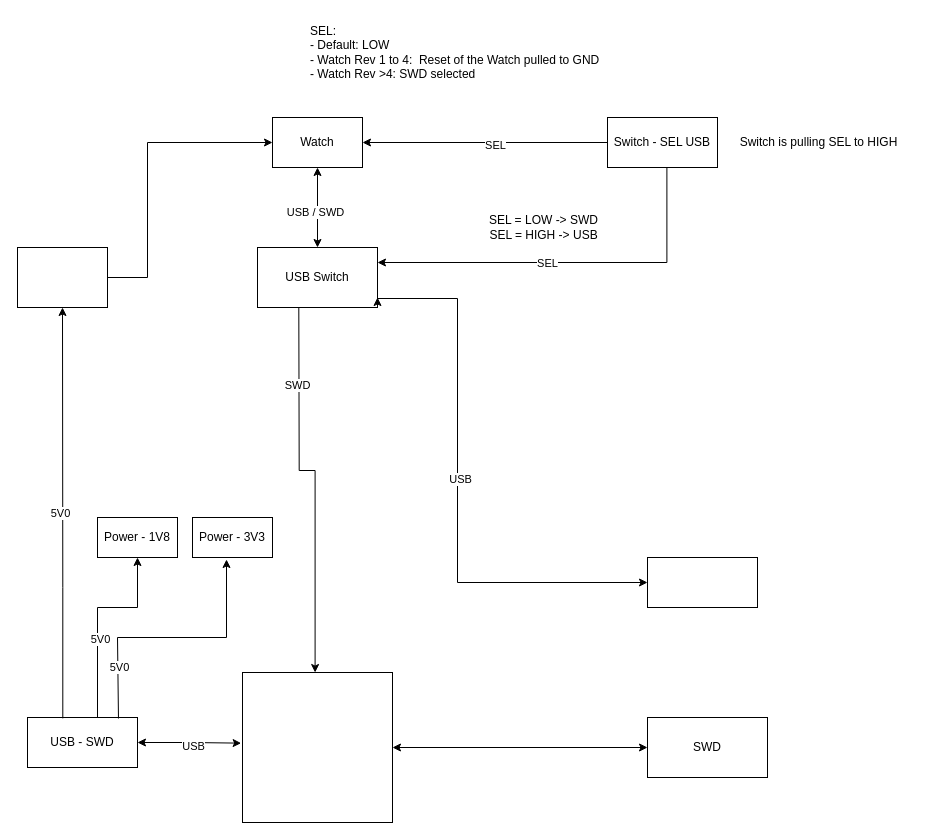
Some shapes in this 926 by 840 pixel diagram are drawn without their labels. Here are the shapes that lost their labels. From the top down, the centre of each, then its label:
point 62,277: Switch - Charging
point 702,582: USB - Data
point 317,747: STM32
